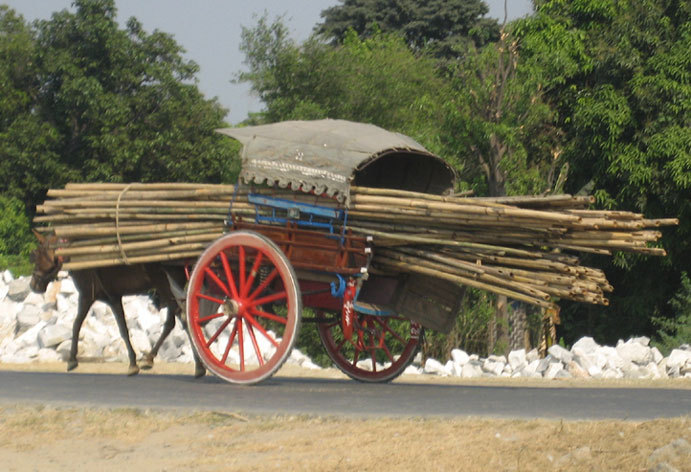horse: (26, 226, 207, 381)
